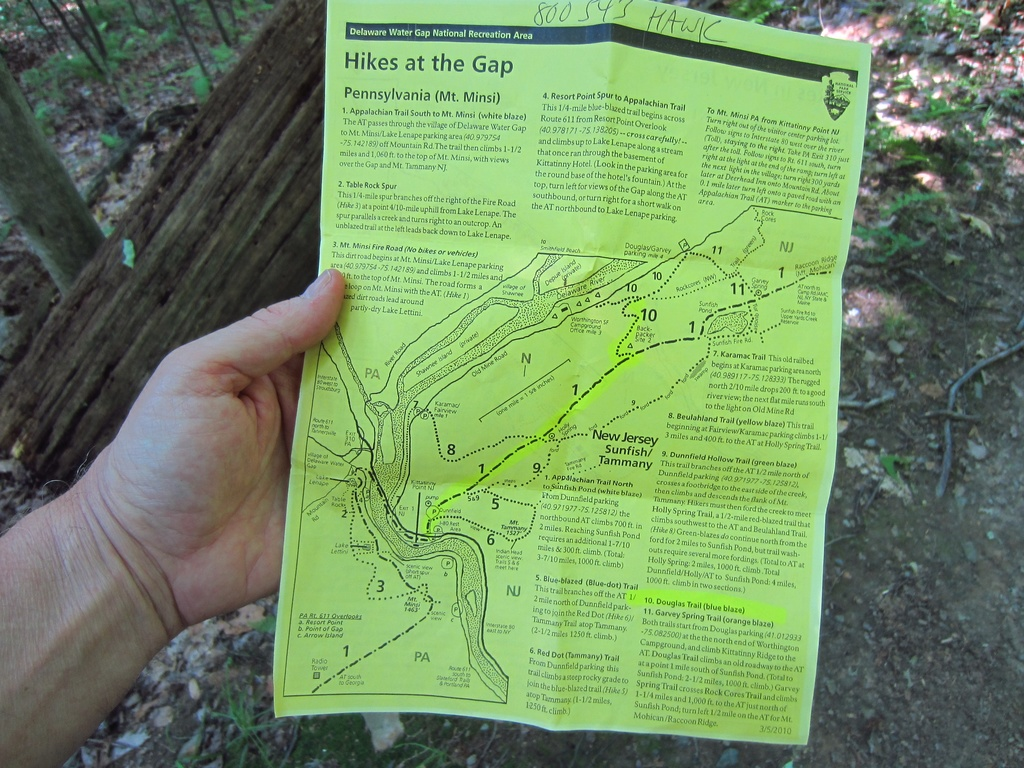Human_hand: (0, 241, 326, 768)
